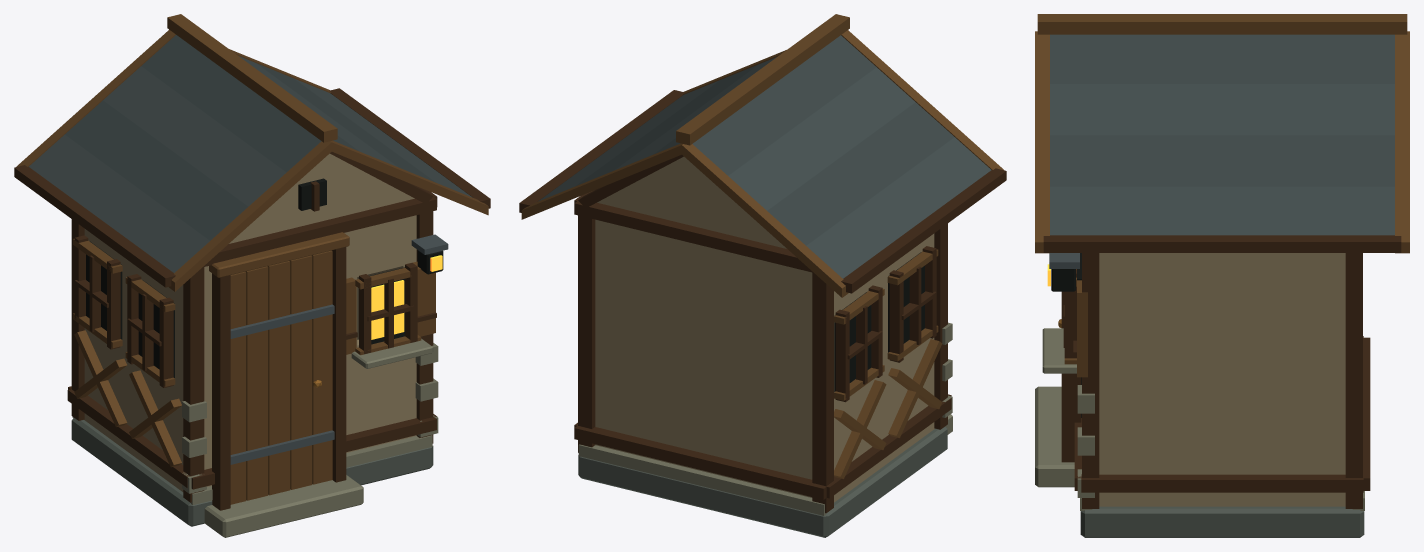
Rendered from SM_ENV_Building_06_TimberHouse.glb.
The picture shows the model from 3 angles, left to right: view 1: azimuth 30°, elevation 25°; view 2: azimuth 150°, elevation 25°; view 3: azimuth 270°, elevation 25°; orthographic projection. The views are drawn at different scales.
Parts seen in each view (by area): view 1: SM_ENV_Building_06_TimberHouse; view 2: SM_ENV_Building_06_TimberHouse; view 3: SM_ENV_Building_06_TimberHouse.
Boxes of the visible parts, x1,y1,x2,y2 form: SM_ENV_Building_06_TimberHouse: (14, 14, 490, 537); SM_ENV_Building_06_TimberHouse: (519, 14, 1006, 537); SM_ENV_Building_06_TimberHouse: (1035, 14, 1409, 537).
Bounding box in the file's own units: 4.38 × 4.92 × 3.7.
